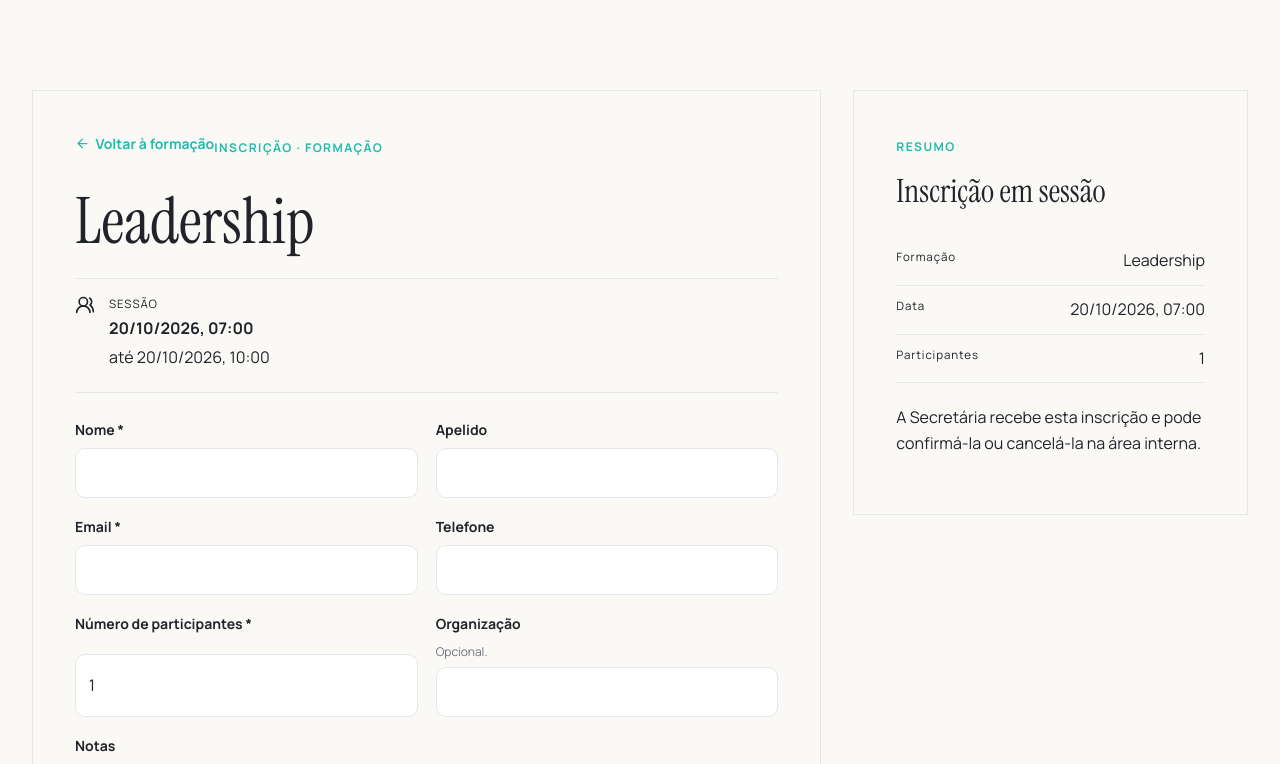
Test: course session registration › submits a group registration without using the booking slot flow
Step 1. Type "Ana" into the field labelled "Nome *" → (246, 473), box x1=75 y1=448 x2=418 y2=498
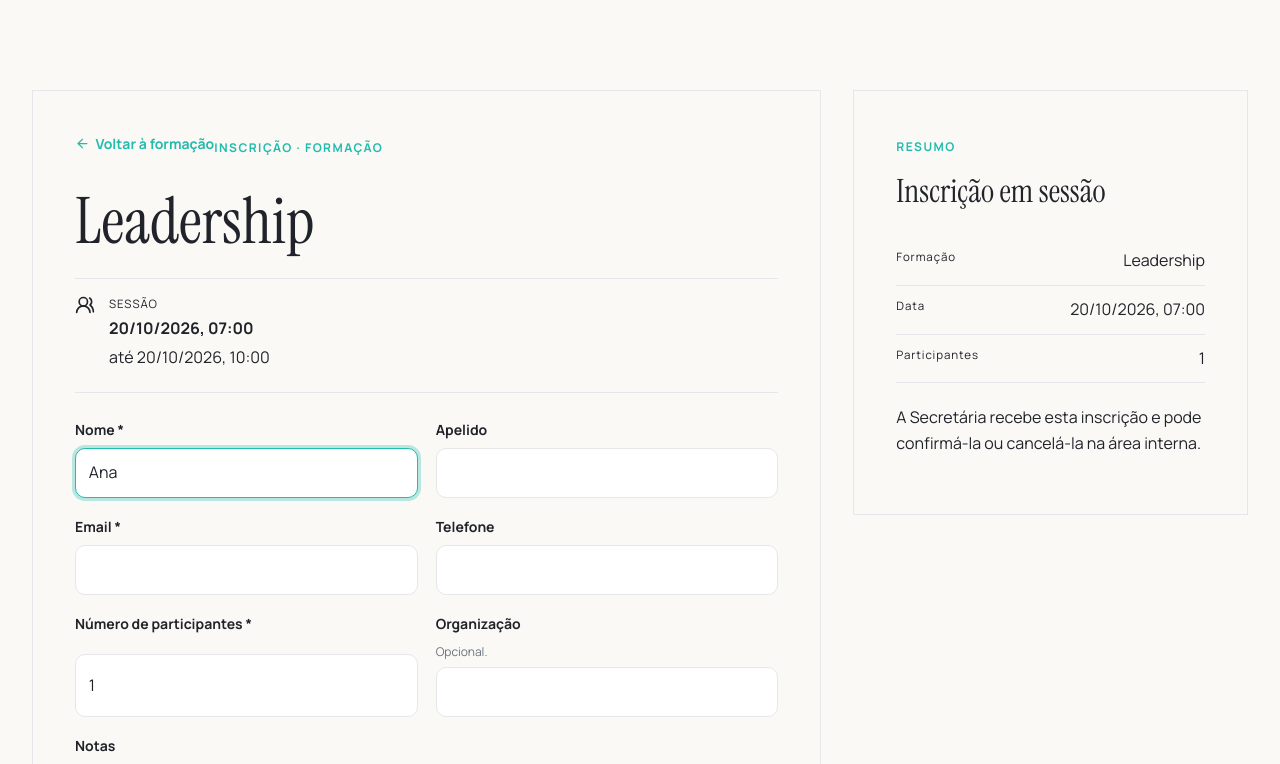
Step 2. Type "ana@example.com" into the field labelled "Email *" → (246, 570), box x1=75 y1=545 x2=418 y2=595
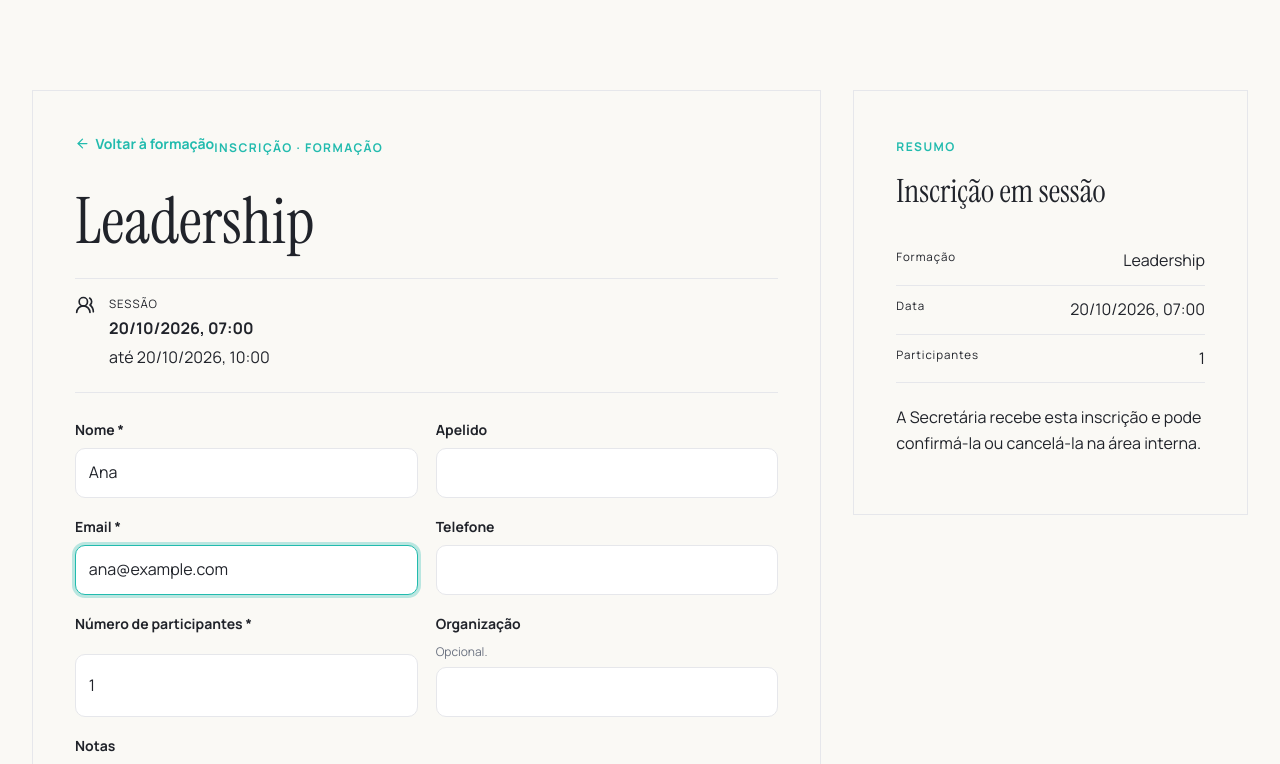
Step 3. Replace the text in the number field labelled "Número de participantes *" with "3" → (246, 686), box x1=75 y1=654 x2=418 y2=717
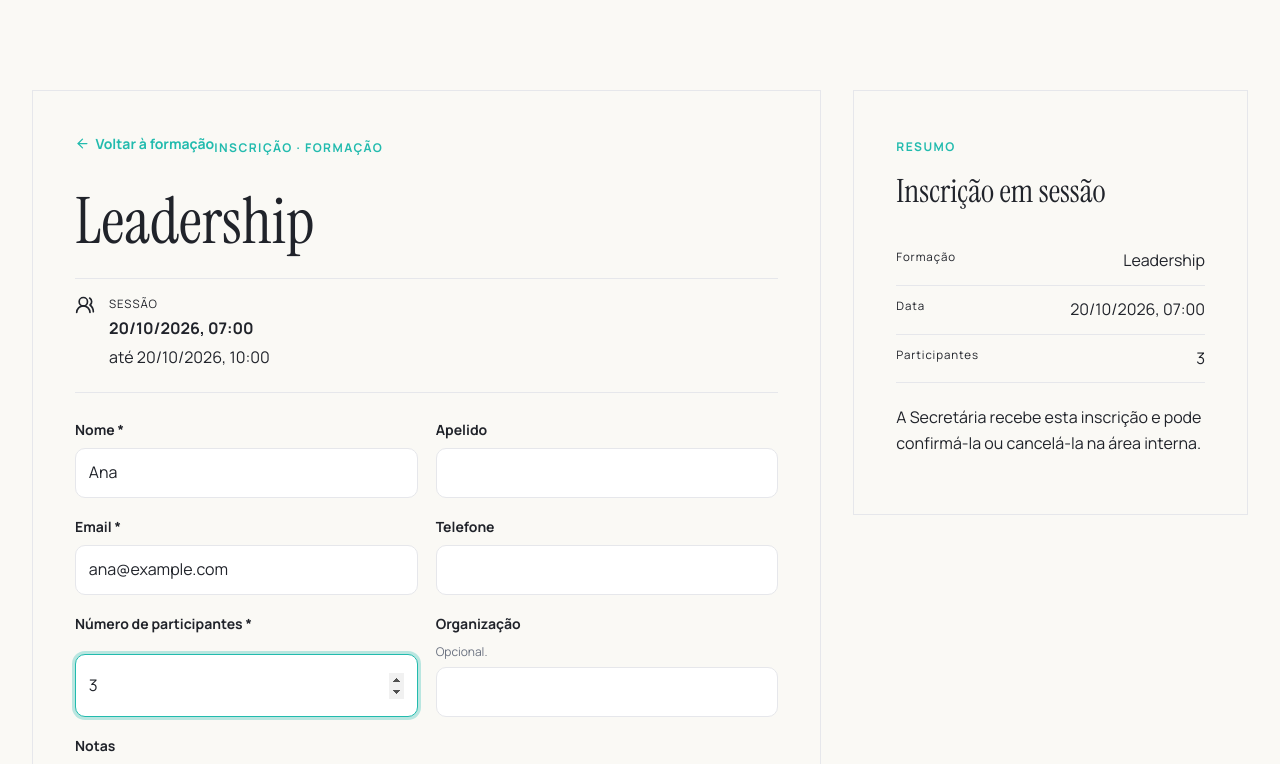
Step 4. Type "Empresa X" into the field labelled "Organização" → (607, 692), box x1=436 y1=667 x2=778 y2=717
(page scrolled)
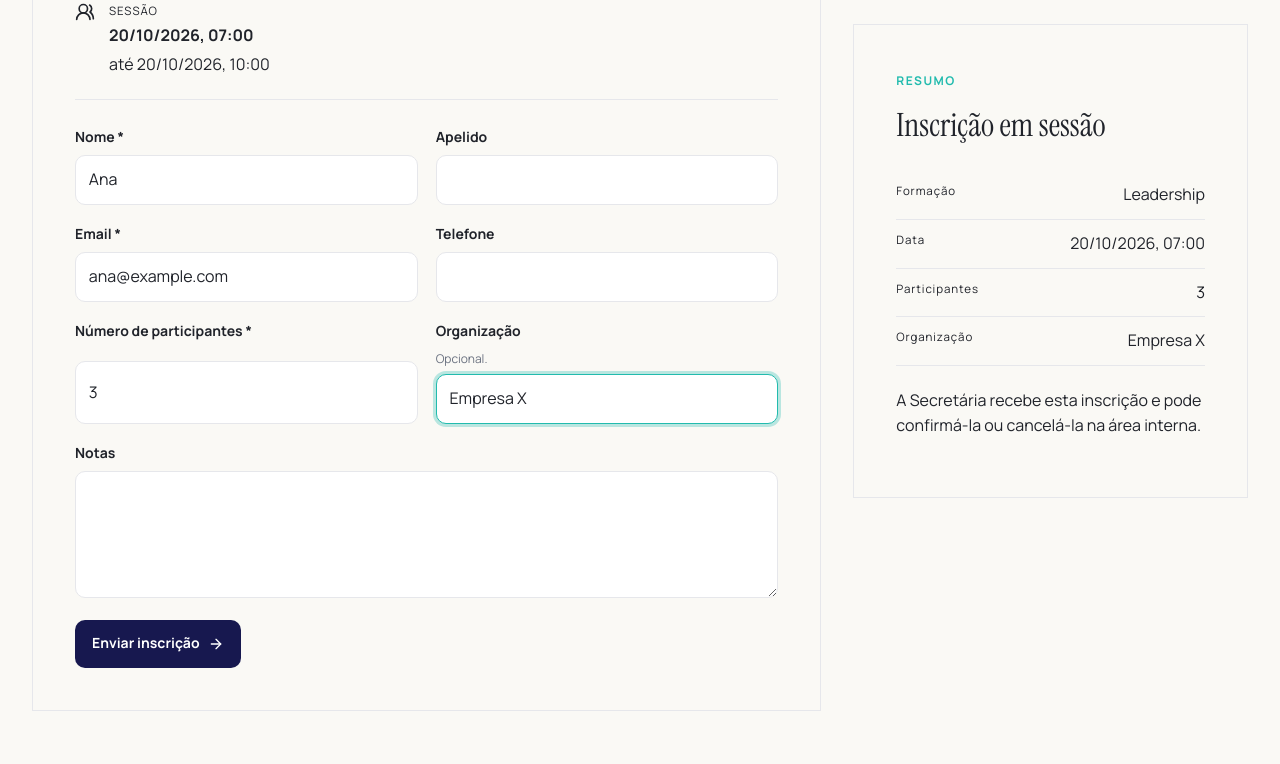
Step 5. Type "Equipa de liderança" into the text box labelled "Notas" → (427, 534), box x1=75 y1=471 x2=778 y2=598
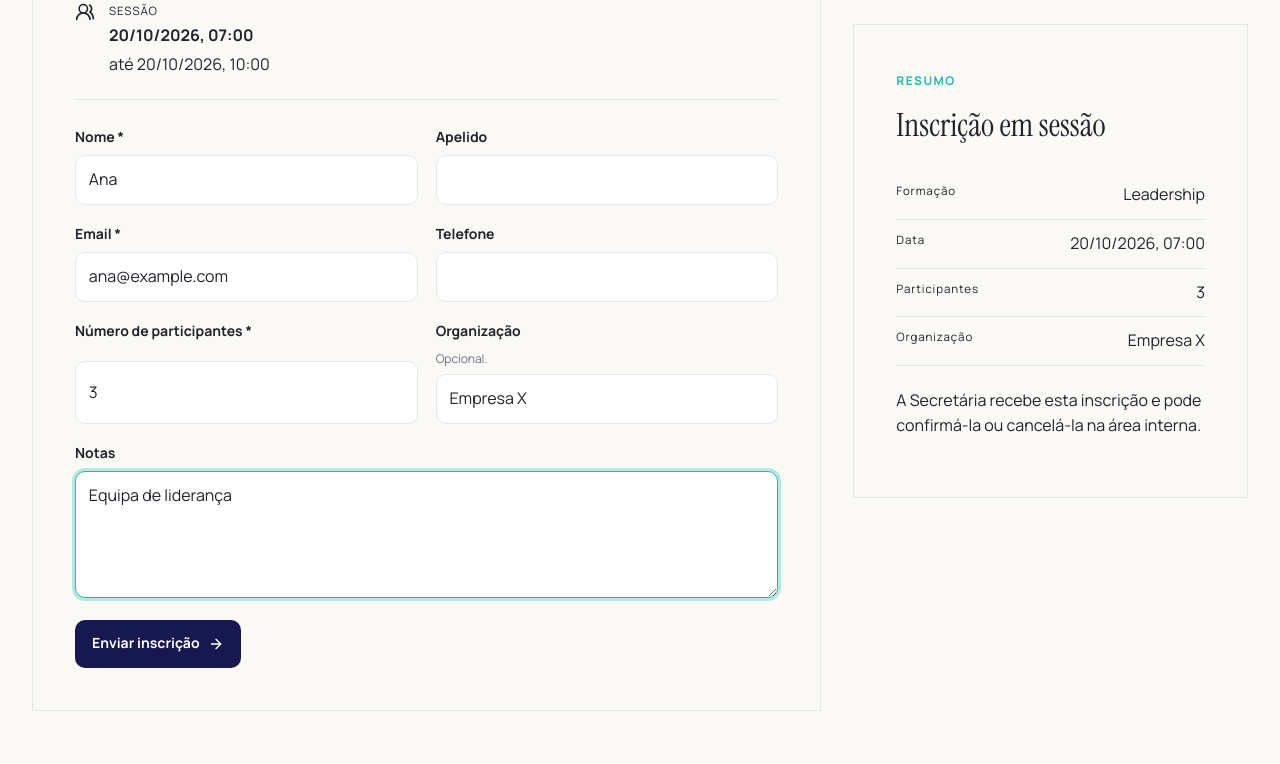
Step 6. Click the button "Enviar inscrição" → click(158, 644), box x1=75 y1=620 x2=241 y2=668
(page scrolled)
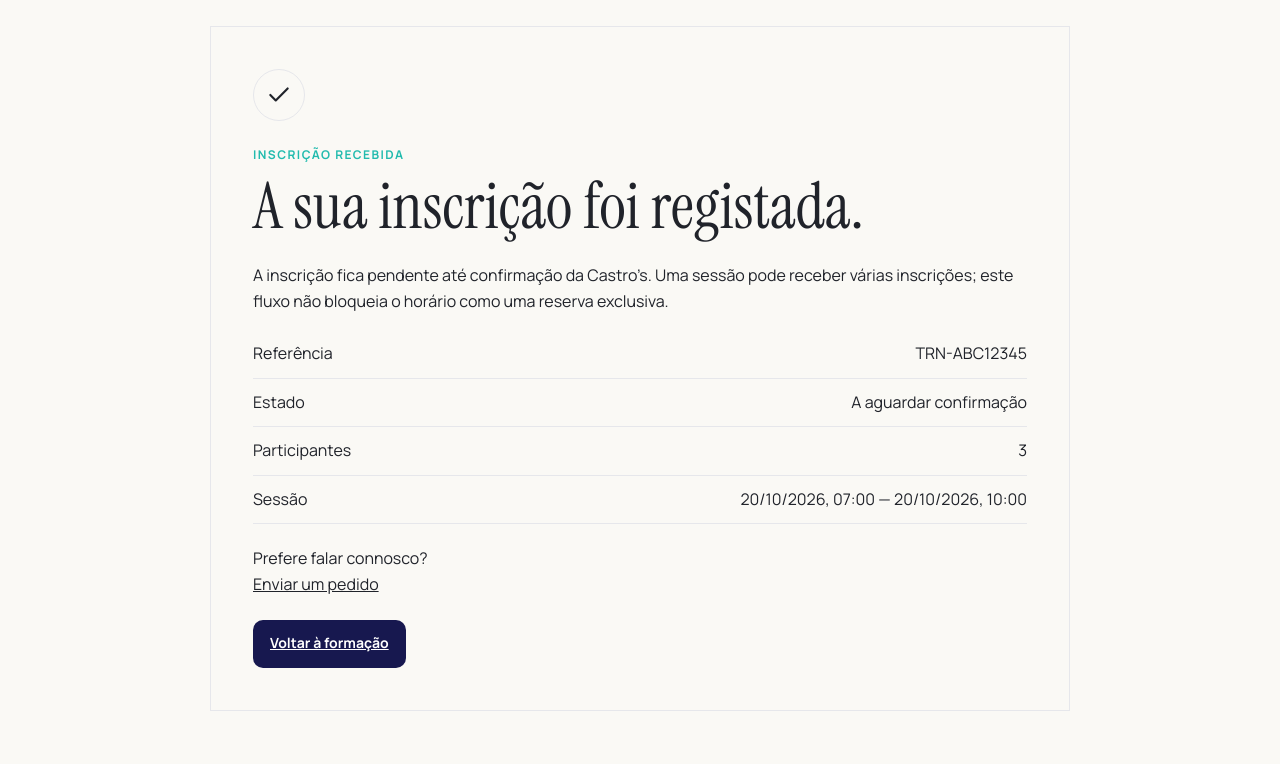
Check: the text "TRN-ABC12345" is shown, box x1=915 y1=341 x2=1027 y2=367
Check: the text "A aguardar confirmação" is shown, box x1=851 y1=390 x2=1027 y2=415
Check: the text "pode receber várias inscrições" is shown, box x1=253 y1=264 x2=1013 y2=312
